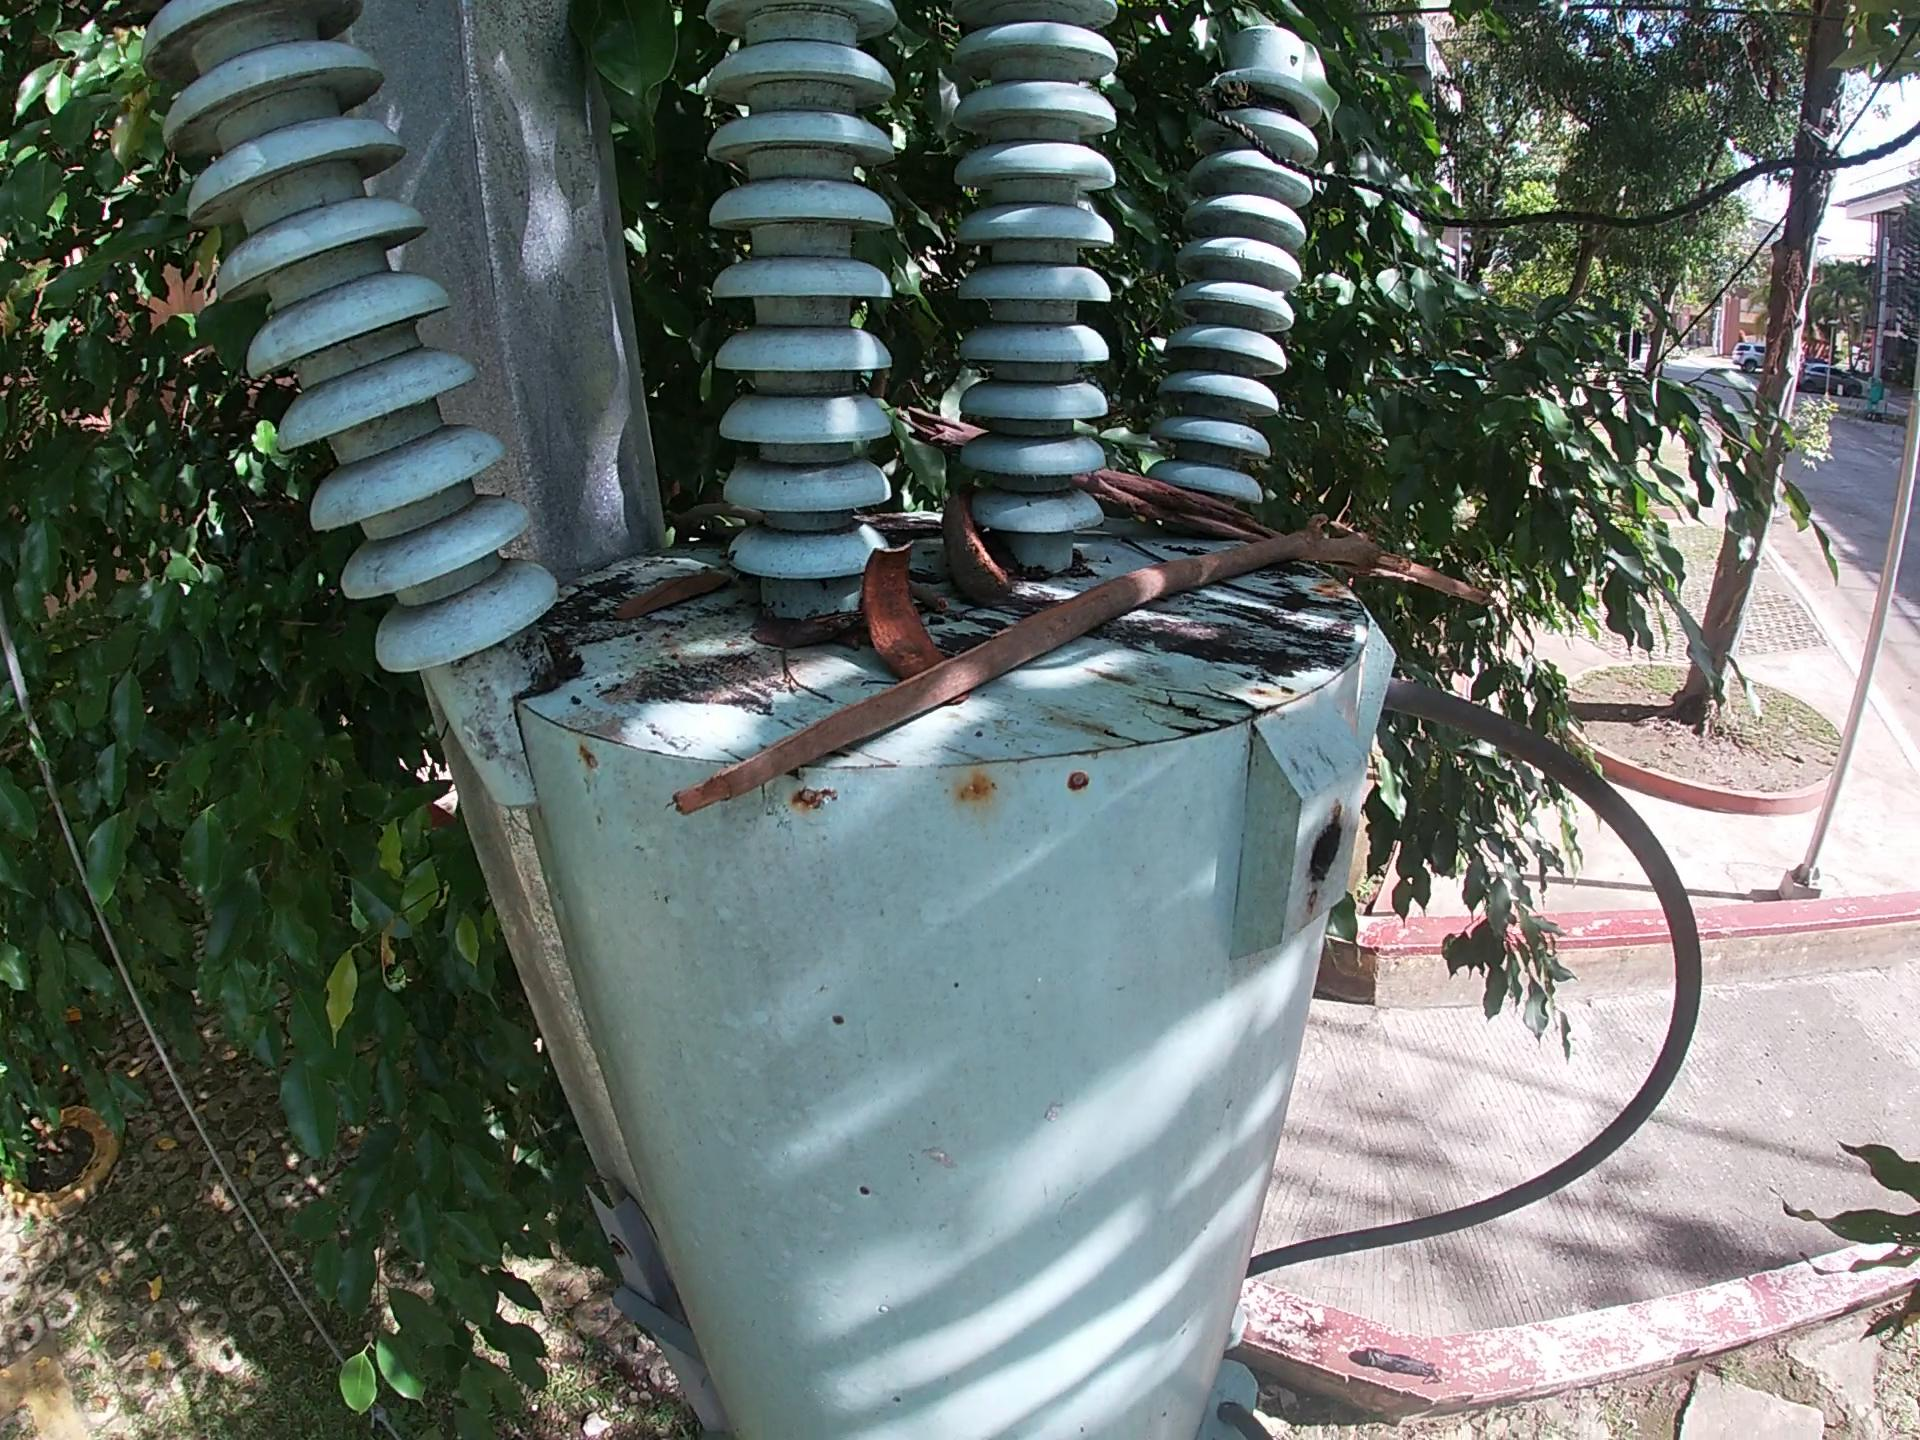leaf: (735, 597, 872, 646), (624, 569, 732, 622)
mahogany fruit: (850, 532, 943, 672), (924, 478, 1019, 610)
tree branch: (608, 486, 1615, 818), (1092, 479, 1285, 546), (1203, 570, 1383, 622), (773, 650, 842, 717), (897, 405, 978, 455), (1107, 528, 1164, 570)
